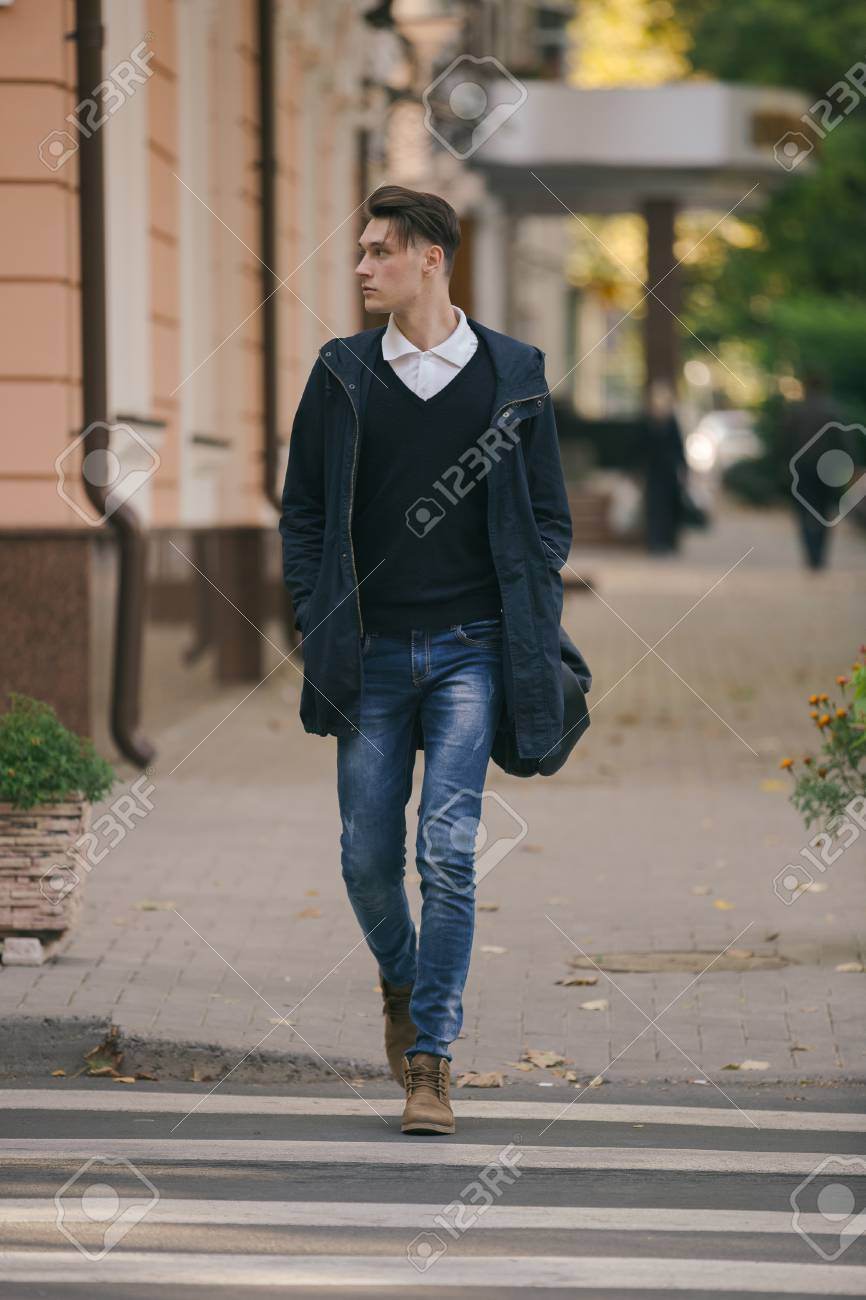person: (268, 181, 597, 1139)
